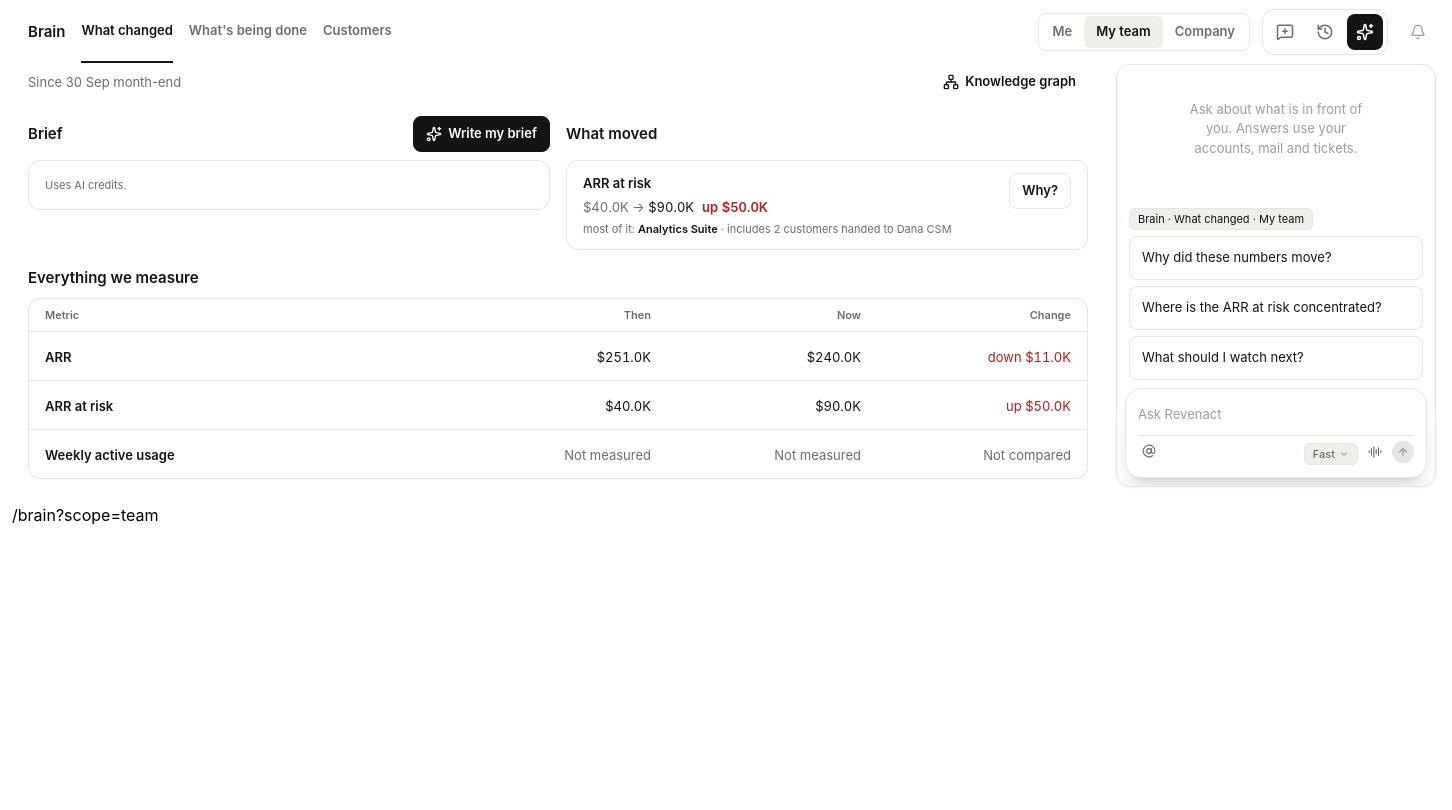
it: BrainAskLayout (brain ask spec §2.2) › carries the chip through a tab switch that keeps the same scope, with no "Ask opens once this view loads." flash (fix wave item 2)
This screenshot has width=1452, height=810.
Check: the text "Since 30 Sep month-end" is shown, box [28,72,181,92]
What coordinates should you click on to do the following:
click the link "What's being done"
I would click on:
 (248, 30)
Its box is [189,22,307,38].
(page scrolled)
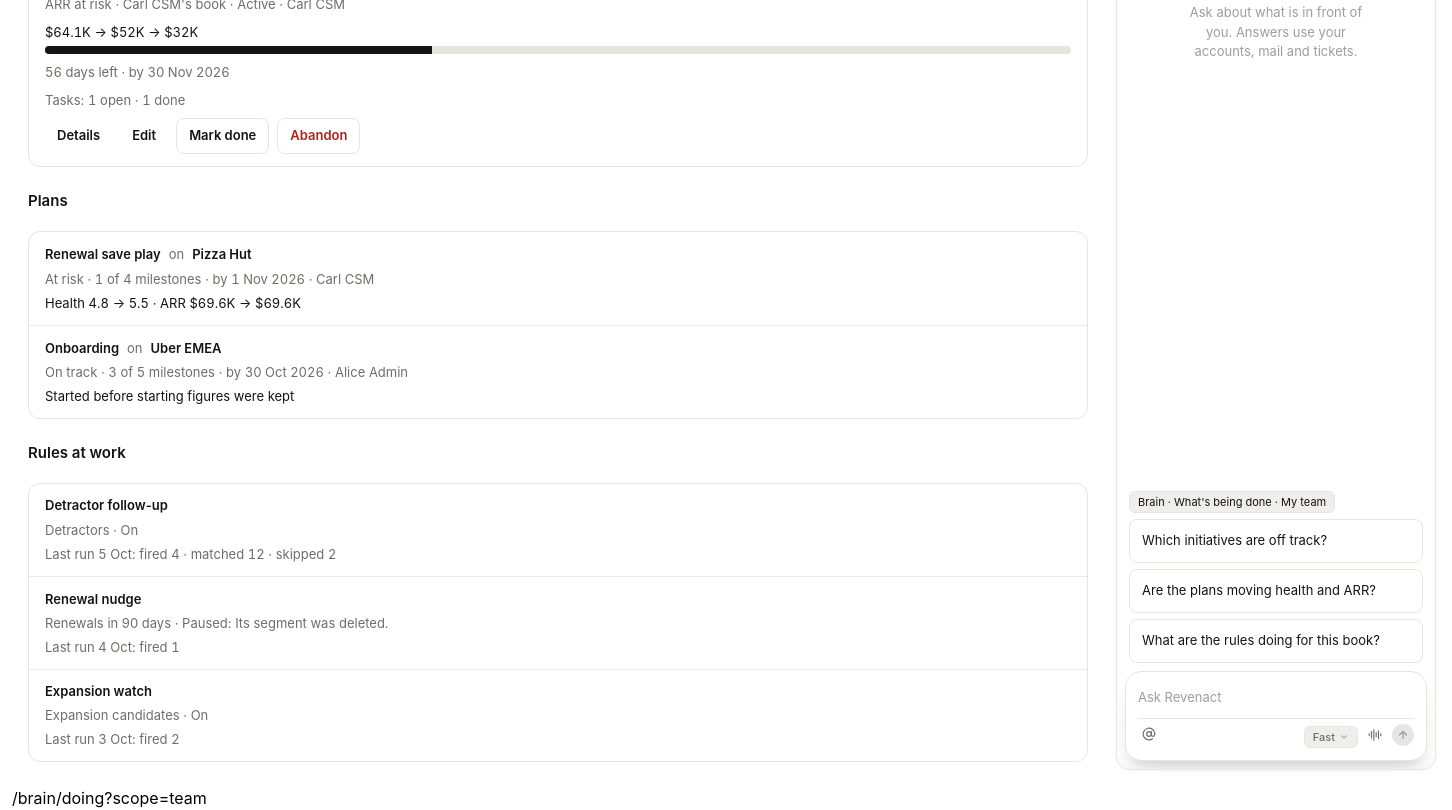
Check: the text with test id "where" reads "/brain/doing?scope=team", box [12,788,207,808]
Check: the text "Brain · What's being done · My team" is shown, box [1129,490,1335,513]
